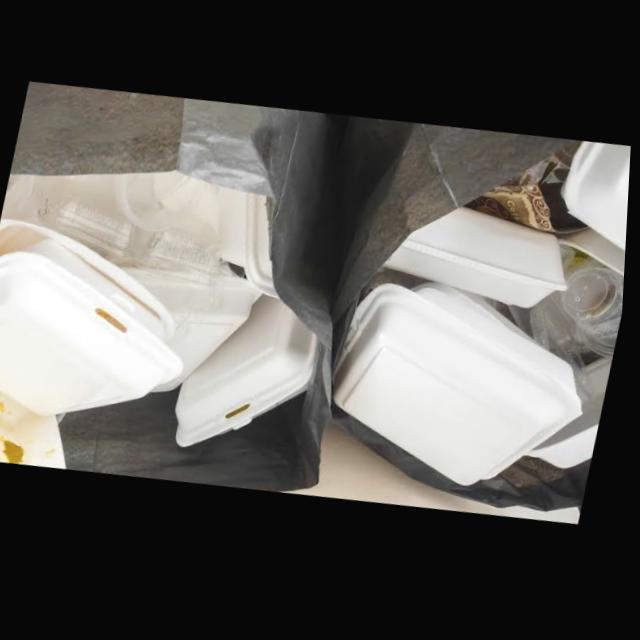plastic: (39, 193, 138, 265), (534, 303, 599, 411), (565, 274, 627, 368), (137, 230, 227, 290)
styrofoam: (338, 287, 588, 492), (0, 239, 189, 417), (0, 218, 180, 347), (179, 297, 323, 450), (386, 213, 571, 315), (529, 364, 616, 477), (0, 387, 71, 471), (245, 197, 283, 303)
